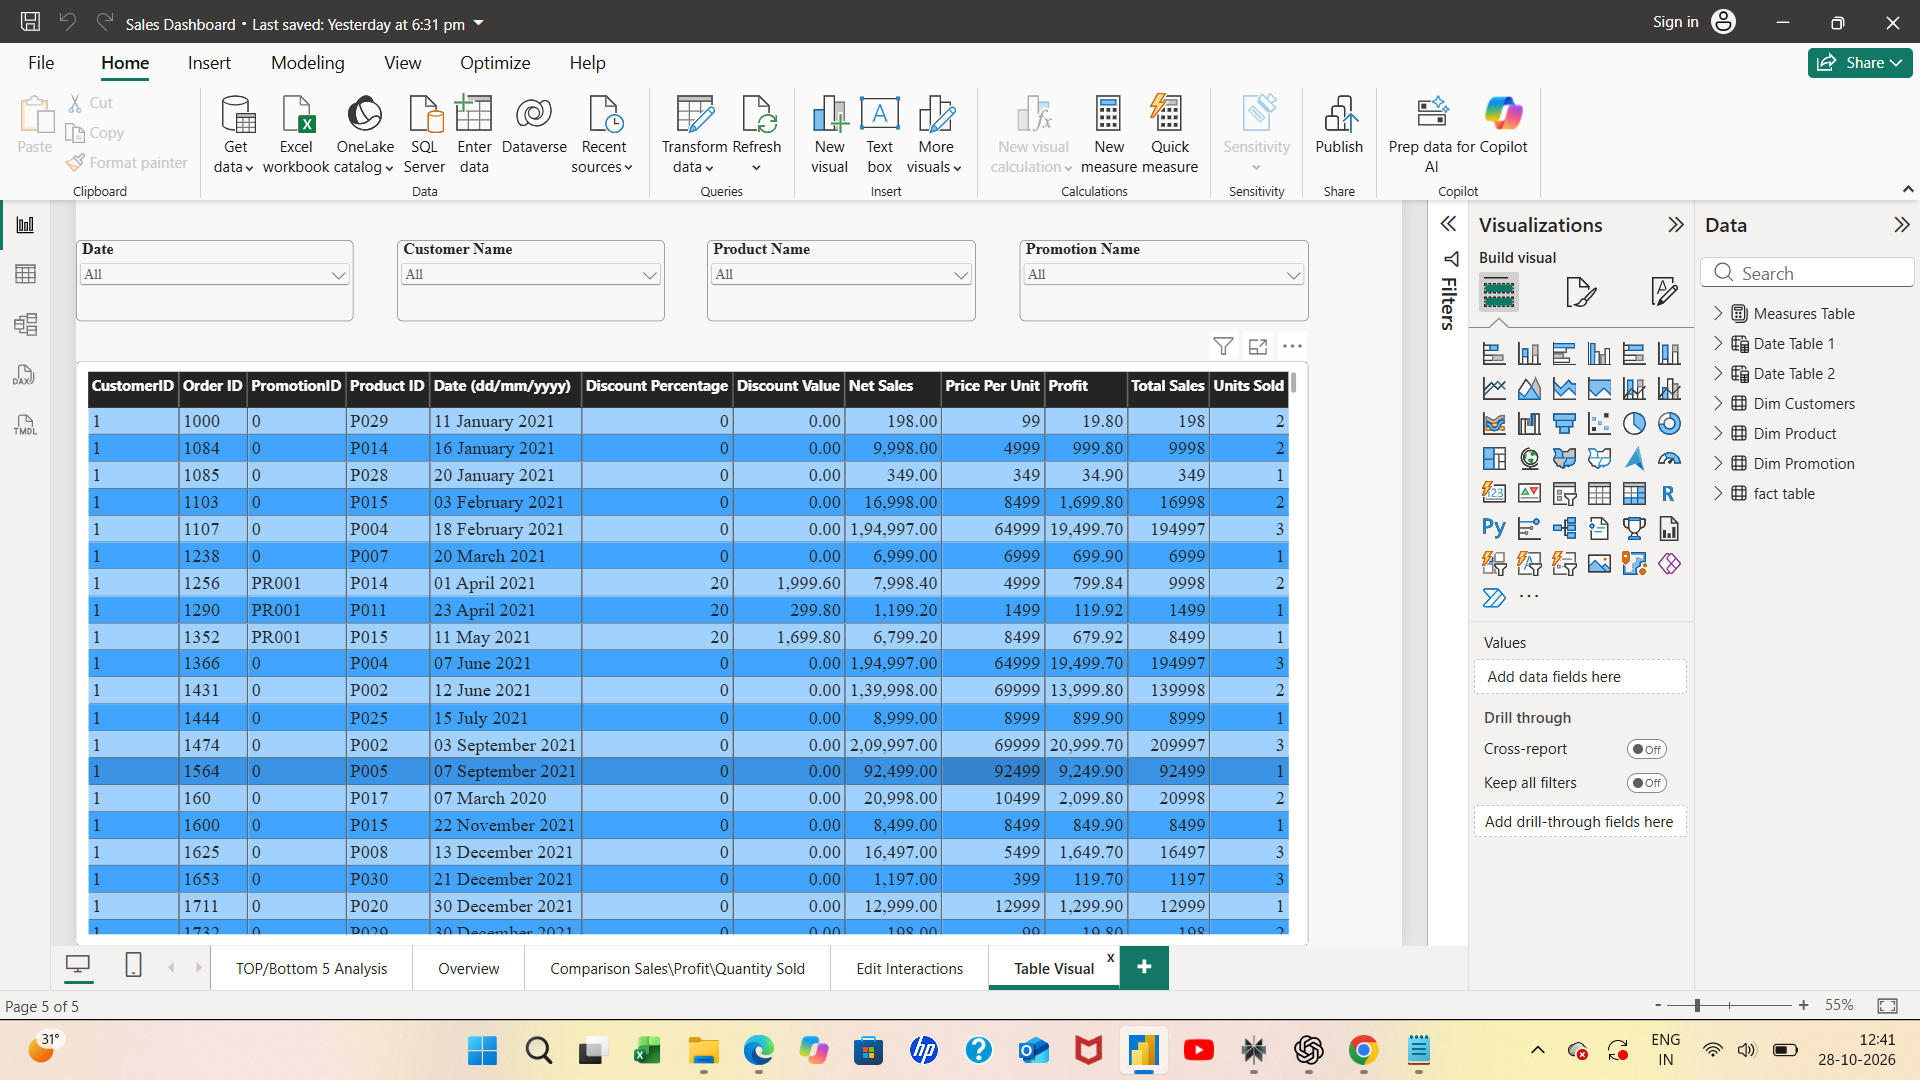

What the dashboard file says about the page in this screenshot:
{"tool":"powerbi","page":{"name":"Table Visual","canvas":[1920,1080],"ordinal":4},"visuals":[{"type":"tableEx","fields":{"Values":["fact table.CustomerID","fact table.Order ID","fact table.PromotionID","fact table.Product ID","fact table.Date (dd/mm/yyyy)","fact table.Discount Percentage","fact table.Discount Value  ","fact table.Net Sales  ","fact table.Price Per Unit","fact table.Profit","fact table.Total Sales  ","fact table.Units Sold"]},"box":[0,233.4,1784.3,846.9],"z":0},{"type":"slicer","fields":{"Values":["fact table.Date (dd/mm/yyyy)"]},"box":[0,57.9,401.7,117.6],"z":1},{"type":"slicer","fields":{"Values":["Dim Promotion.Promotion Name"]},"box":[1366.3,57.9,418,117.6],"z":2},{"type":"slicer","fields":{"Values":["Dim Product.Product Name"]},"box":[914.5,57.9,389.1,117.6],"z":3},{"type":"slicer","fields":{"Values":["Dim Customers.Customer Name"]},"box":[464.5,57.9,387.3,117.6],"z":4}]}

Visuals, with their boxes on the page's 1920x1080 design canvas (x1, y1, x2, y2). These are canvas units, not pixel positions in the 1920x1080 screenshot, which may show the page scaled, cropped or inside an application window:
tableEx - fact table.CustomerID x fact table.Order ID: select_region(0, 233, 1784, 1080)
slicer - fact table.Date (dd/mm/yyyy): select_region(0, 58, 402, 176)
slicer - Dim Promotion.Promotion Name: select_region(1366, 58, 1784, 176)
slicer - Dim Product.Product Name: select_region(914, 58, 1304, 176)
slicer - Dim Customers.Customer Name: select_region(464, 58, 852, 176)
